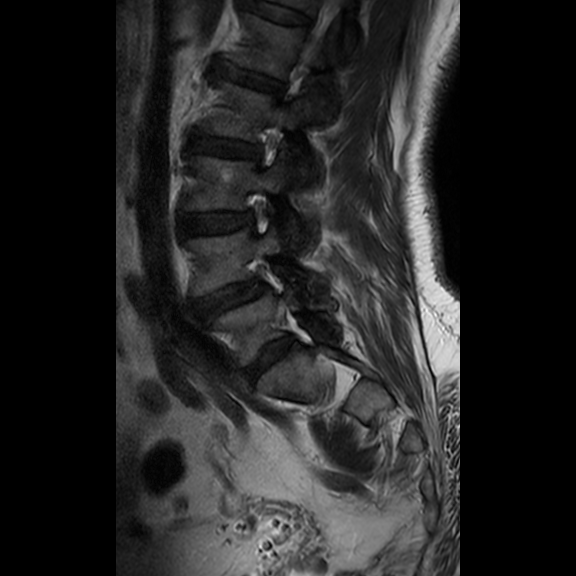RFS0: (230, 180, 286, 245), (234, 248, 293, 307), (240, 116, 293, 175)
